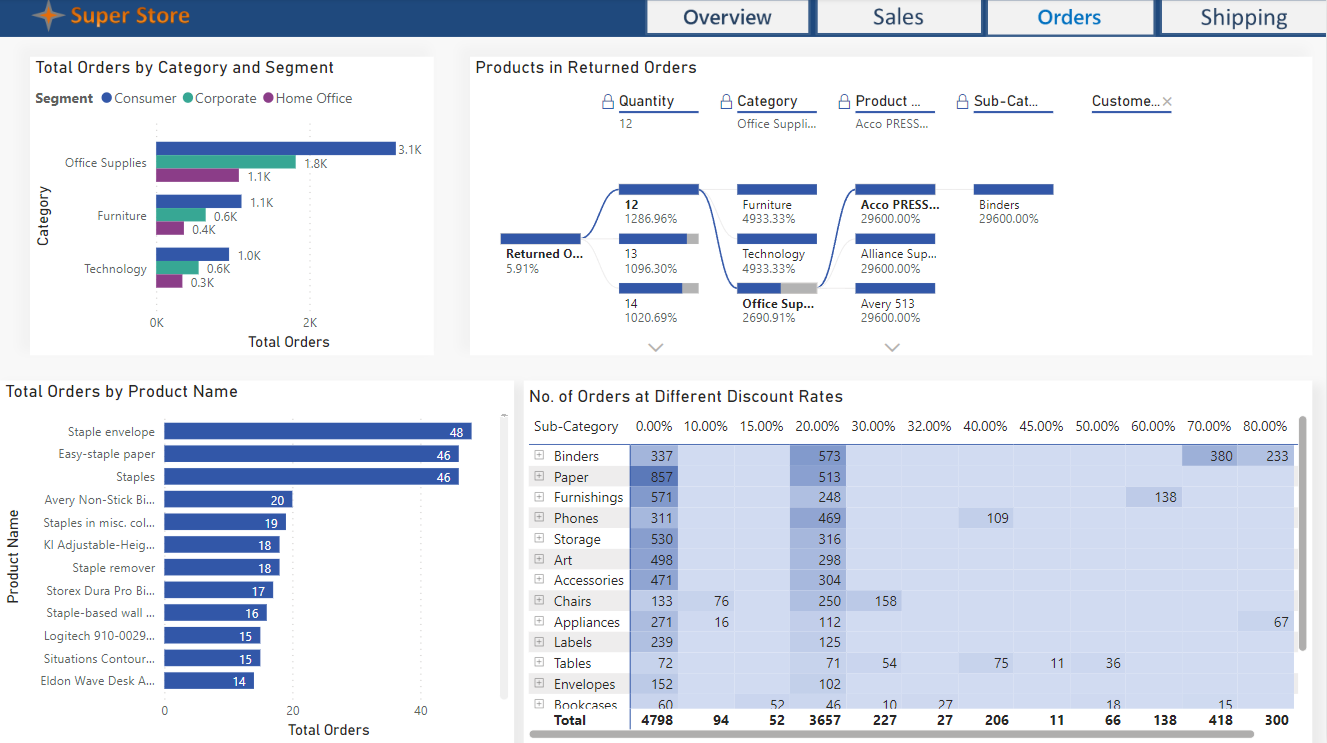

This screenshot's page, from the dashboard's own definition file:
{"tool":"powerbi","page":{"name":"Orders","canvas":[1280,720],"ordinal":2},"visuals":[{"type":"decompositionTreeVisual","title":"Products in Returned Orders ","fields":{"Analyze":["Financial Measures.Returned %"],"ExplainBy":["Orders.Quantity","Orders.Category","Orders.Product Name","Orders.Sub-Category","Orders.Customer Name","Orders.City"]},"box":[453.5,56.7,812.9,288.2],"z":0},{"type":"clusteredBarChart","fields":{"Category":["Orders.Category"],"Y":["Financial Measures.Total Orders"],"Series":["Orders.Segment"]},"box":[28.9,56.7,389.5,288.2],"z":1000},{"type":"clusteredBarChart","fields":{"Category":["Orders.Product Name"],"Y":["Financial Measures.Total Orders"]},"box":[0,369,495.7,351],"z":6000},{"type":"pivotTable","title":"No. of Orders  at Different Discount Rates","fields":{"Rows":["Orders.Sub-Category","Orders.Order Date.Variation.Date Hierarchy.Year"],"Values":["Financial Measures.Total Orders"],"Columns":["Orders.Discount"]},"box":[505.3,369,761,351],"z":7000}]}

Visuals, with their boxes in screenshot pixels (x1, y1, x2, y2), scaled from the page's 1280x720 canvas onto the 1327x743 screenshot:
"Products in Returned Orders " decompositionTreeVisual: bbox=(470, 59, 1313, 356)
clusteredBarChart - Orders.Category x Financial Measures.Total Orders: bbox=(30, 59, 434, 356)
clusteredBarChart - Orders.Product Name x Financial Measures.Total Orders: bbox=(0, 381, 514, 742)
"No. of Orders  at Different Discount Rates" pivotTable: bbox=(524, 381, 1313, 742)
